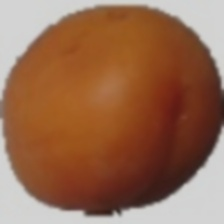apricot: (42, 41, 195, 201)
